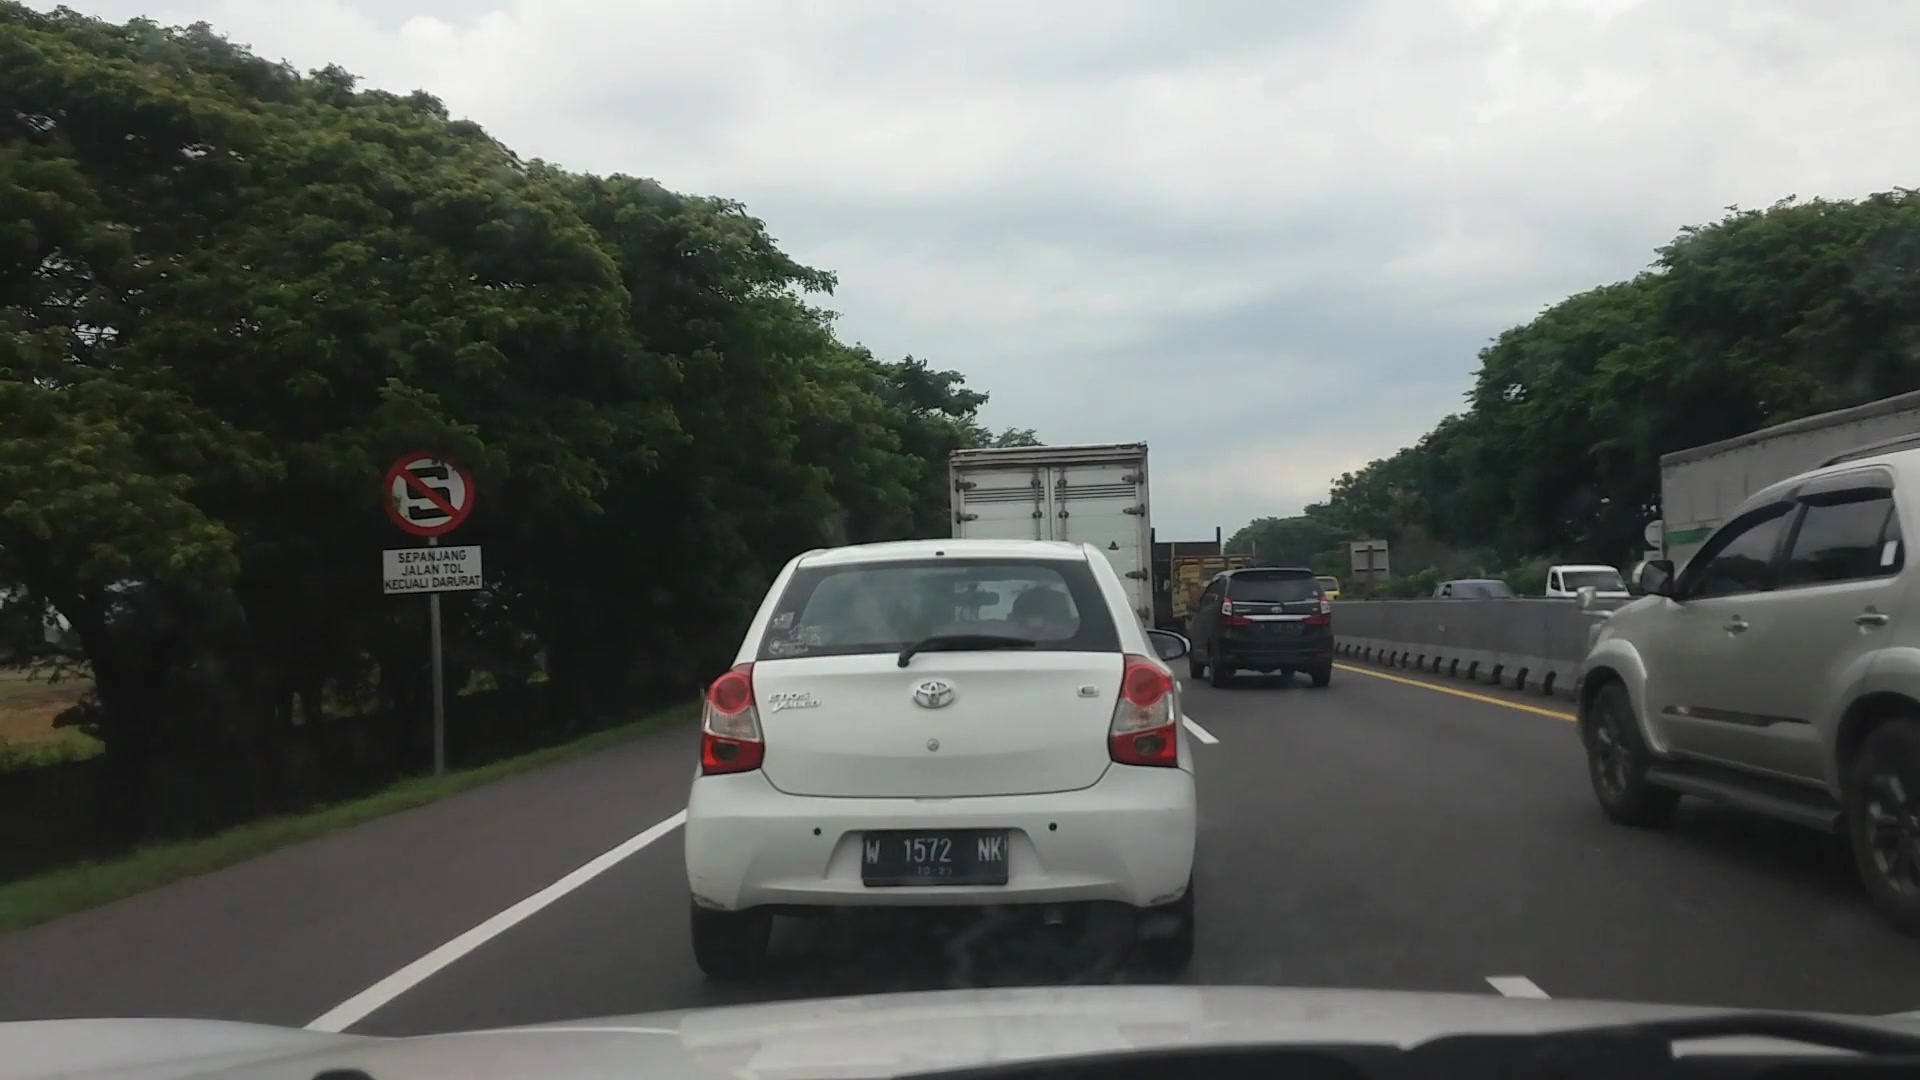plate_positive: (862, 828, 1007, 887)
